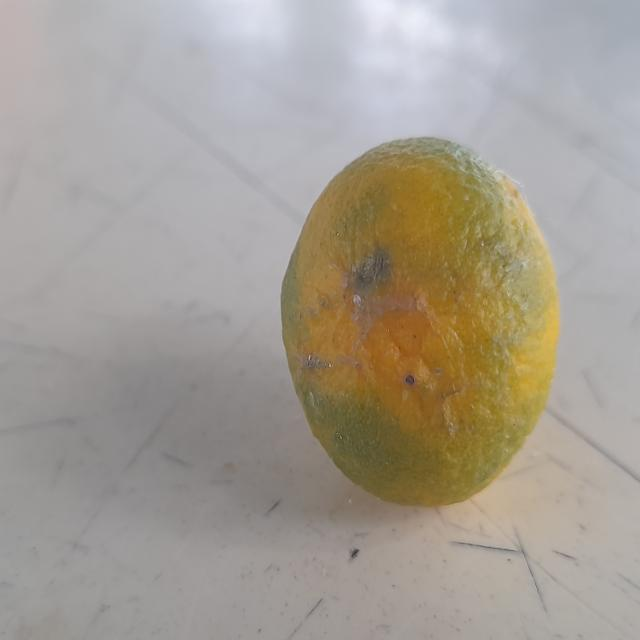greening: (273, 123, 569, 520)
